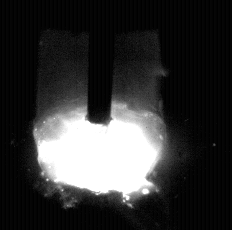arame: (88, 0, 113, 125)
poca: (36, 0, 168, 230)
